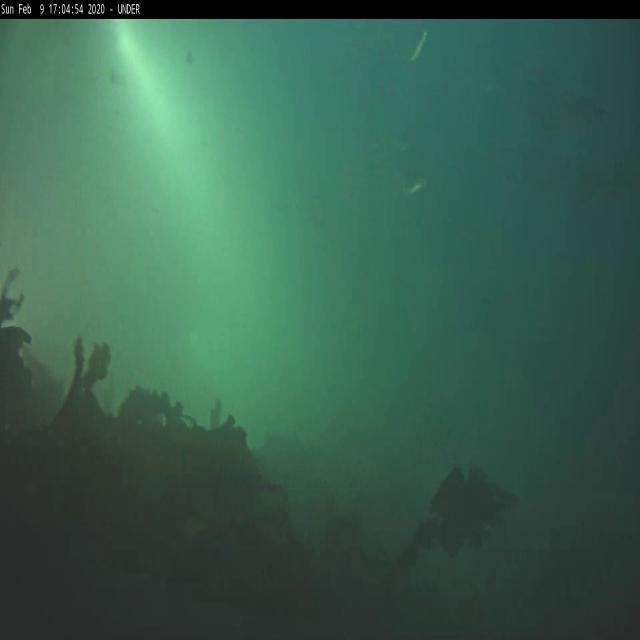fish: (406, 28, 428, 63), (408, 177, 426, 197)
